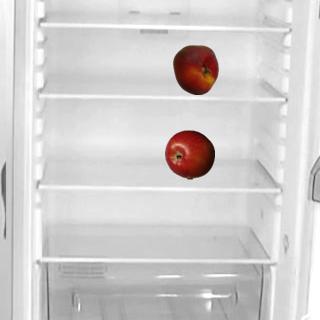Apple Braeburn: (164, 129, 214, 179)
Nectarine Flat: (170, 44, 220, 94)
